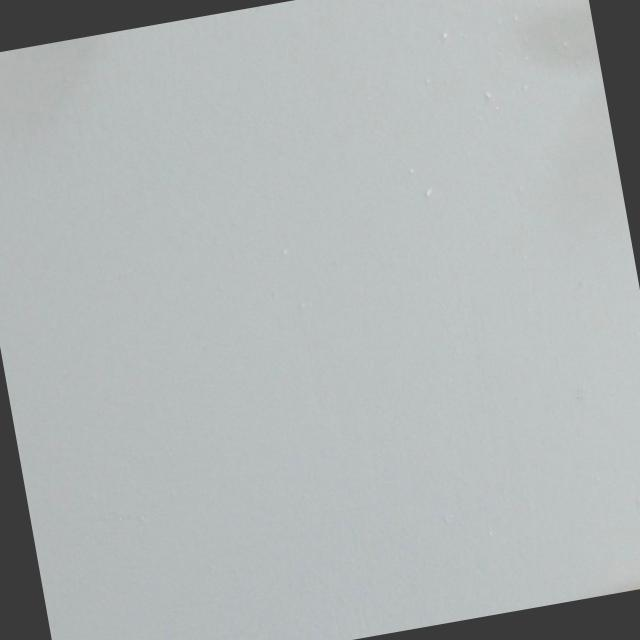dañado: (586, 567, 640, 597)
